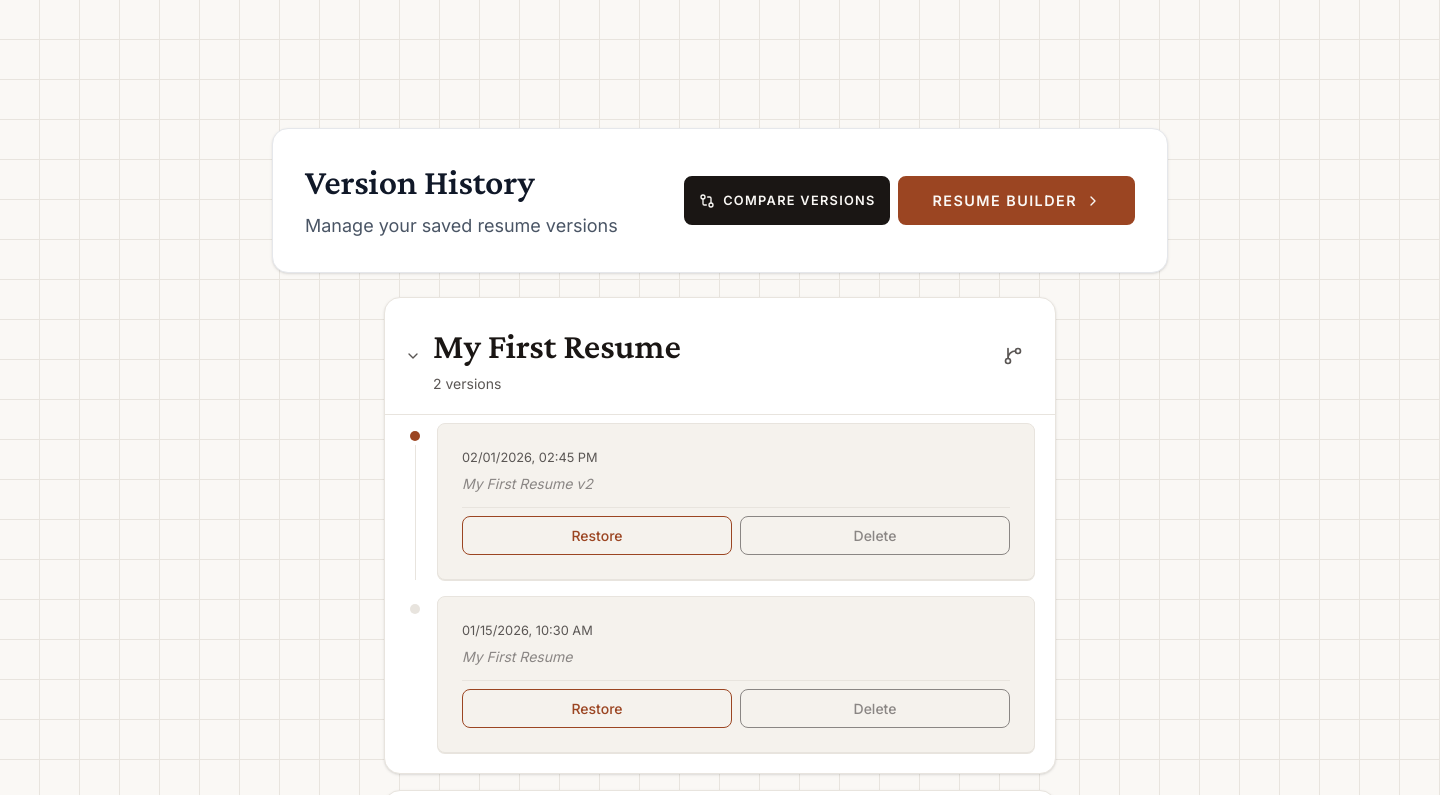
Test case: Versions Page › Delete Functionality › removes version from group after successful deletion
This screenshot has width=1440, height=795.
Expected: the text "My First Resume v2" is shown, [462,475,593,492]
Step 1. Click the button "Delete" below "My First Resume v2" → (875,536), box [740,516,1010,555]
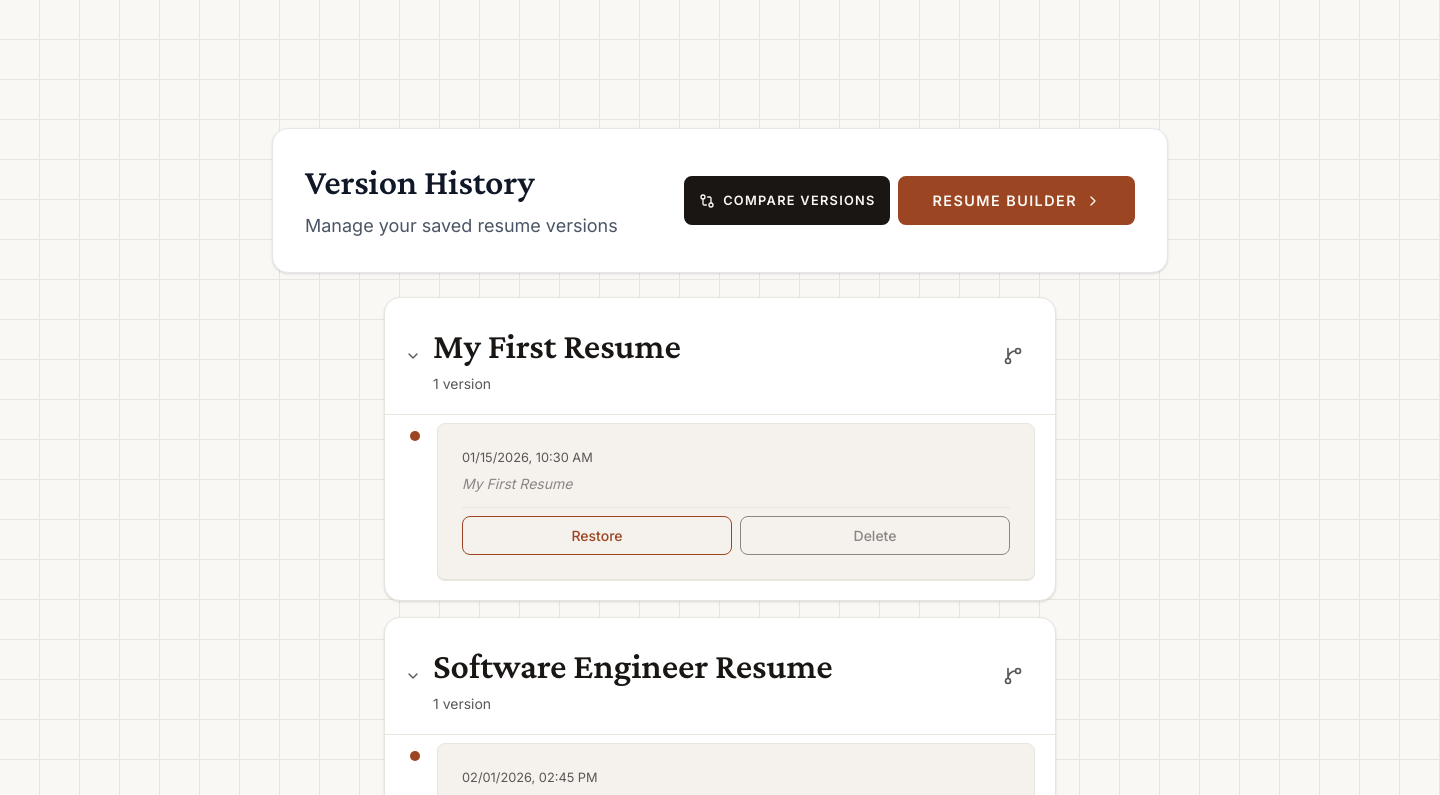
Result: the text "My First Resume v2" is gone
